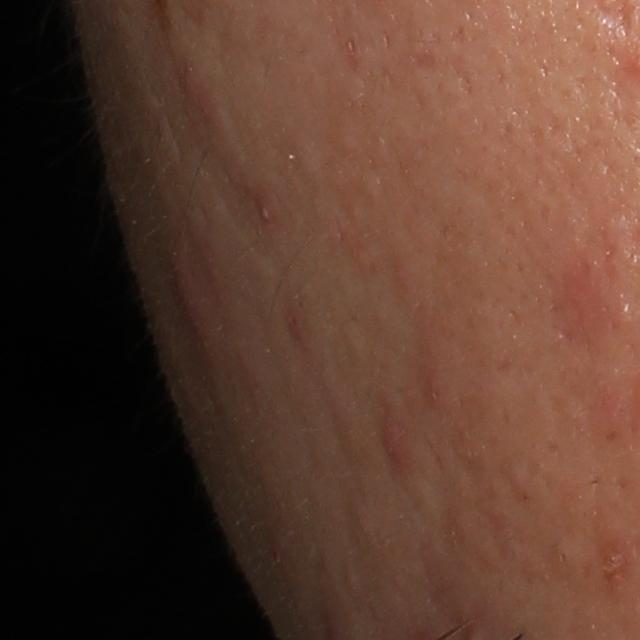papule: (157, 258, 204, 331), (374, 407, 406, 476), (173, 64, 214, 114)
